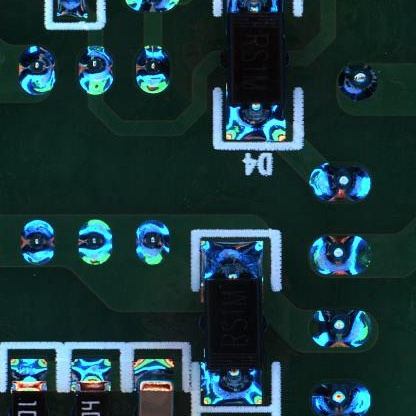spot: (310, 158, 372, 204), (307, 233, 373, 276), (310, 310, 373, 349), (310, 381, 373, 416), (77, 44, 114, 95), (18, 45, 56, 94), (134, 45, 170, 94), (77, 217, 113, 265), (20, 217, 55, 264), (339, 61, 378, 102), (136, 218, 170, 265)
